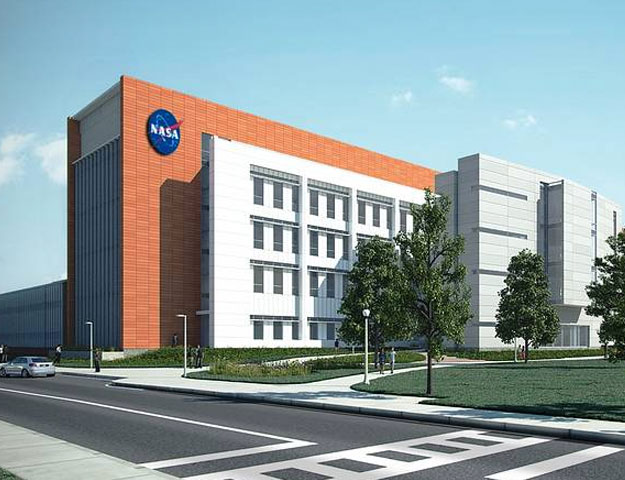NASA: (142, 107, 185, 159)
